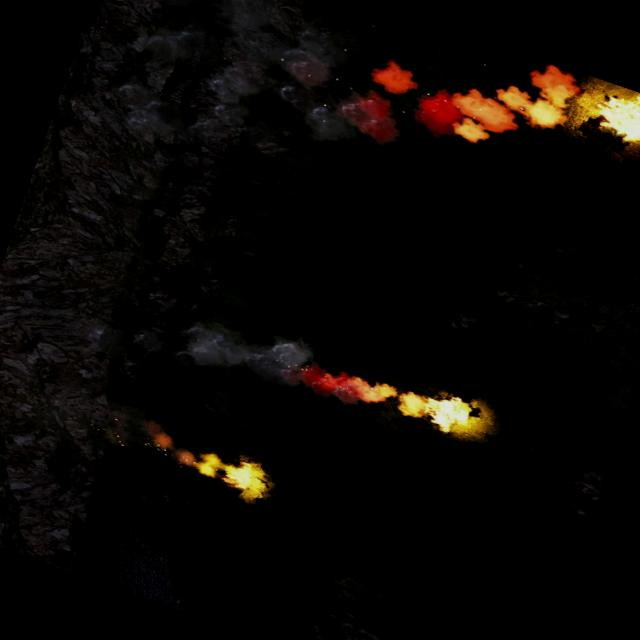fire: (412, 383, 489, 443), (596, 82, 640, 150), (214, 451, 272, 501)
smoke: (101, 0, 604, 266), (147, 298, 421, 437), (70, 390, 223, 478)
